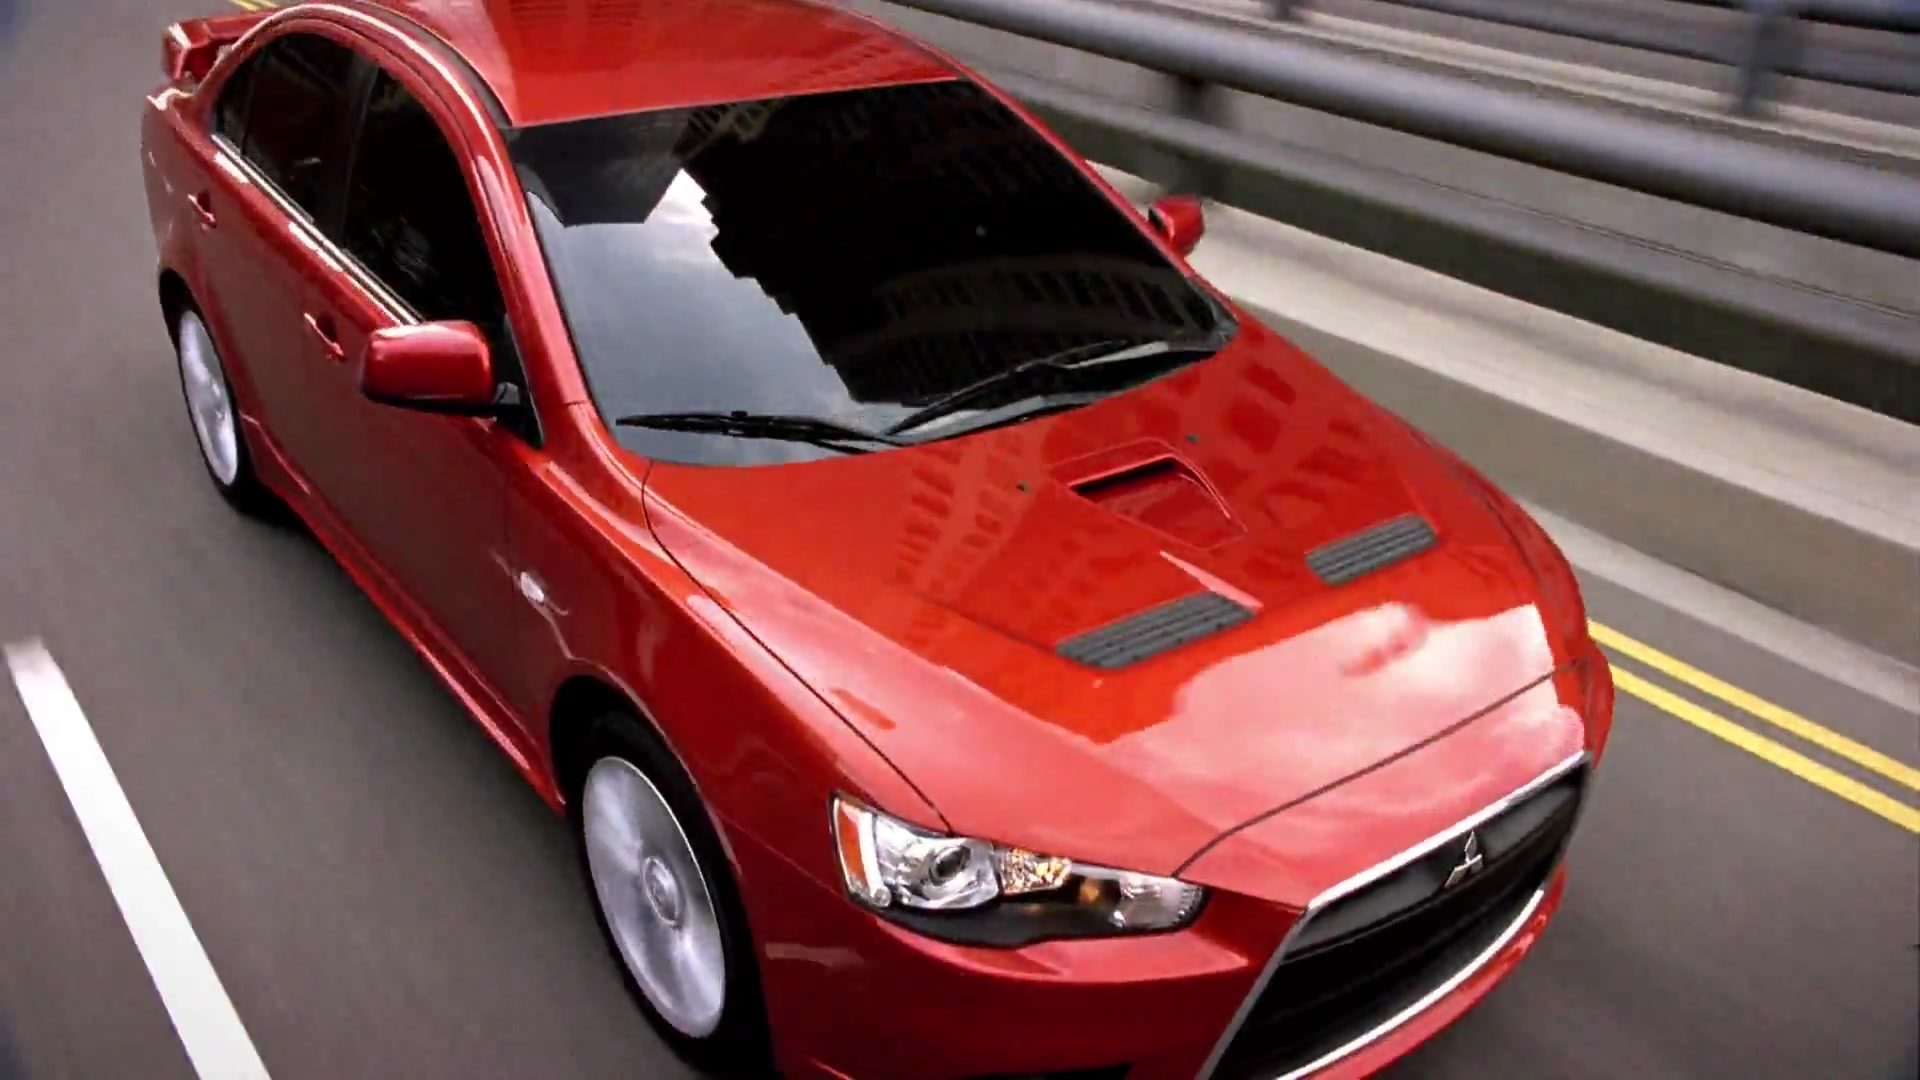car: (131, 3, 1619, 1080)
